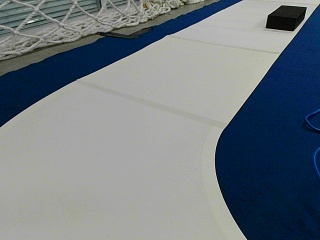block: (266, 4, 305, 29)
